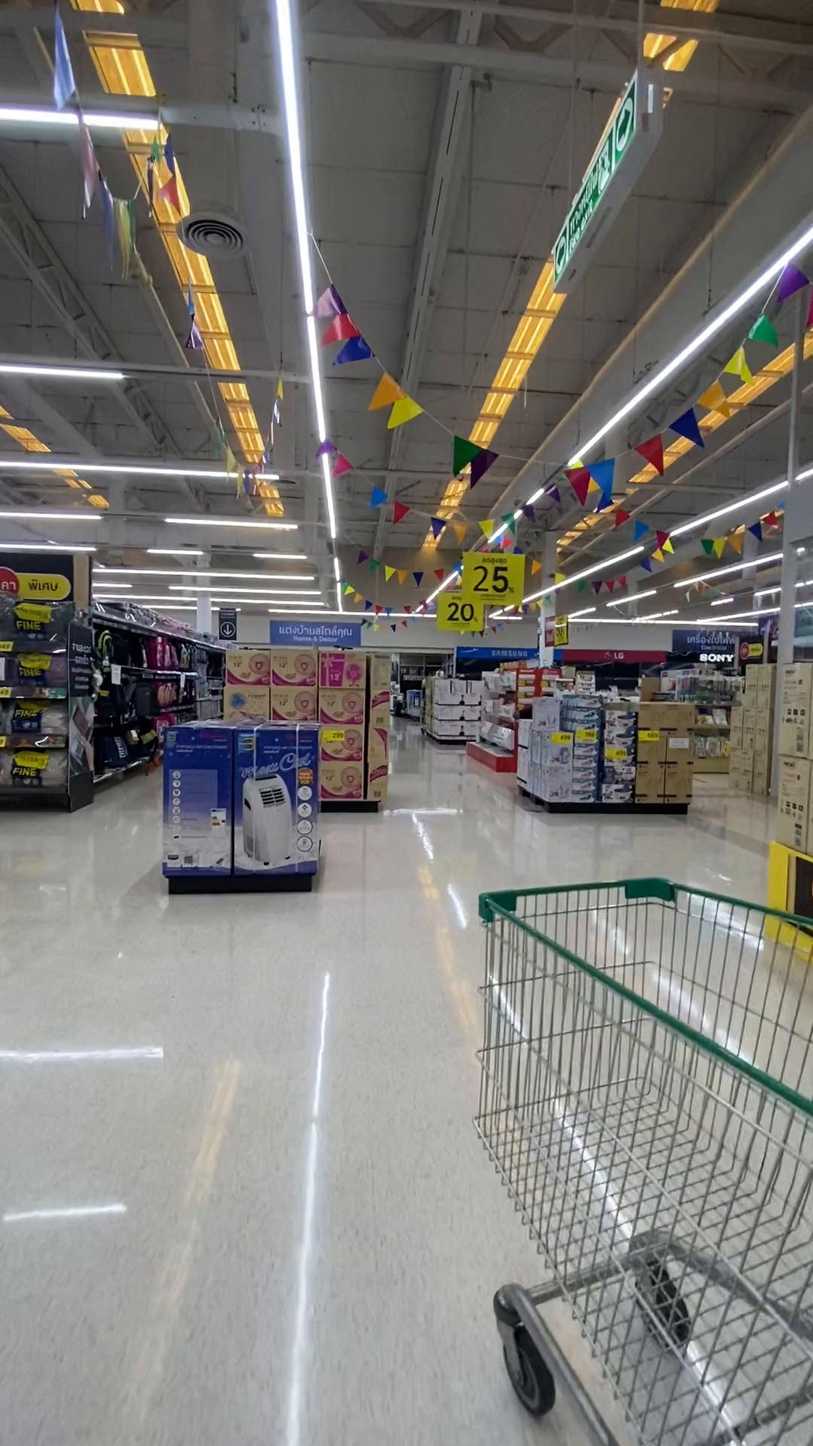Cart: (474, 877, 812, 1445)
article: (233, 723, 320, 887), (319, 650, 367, 688)
